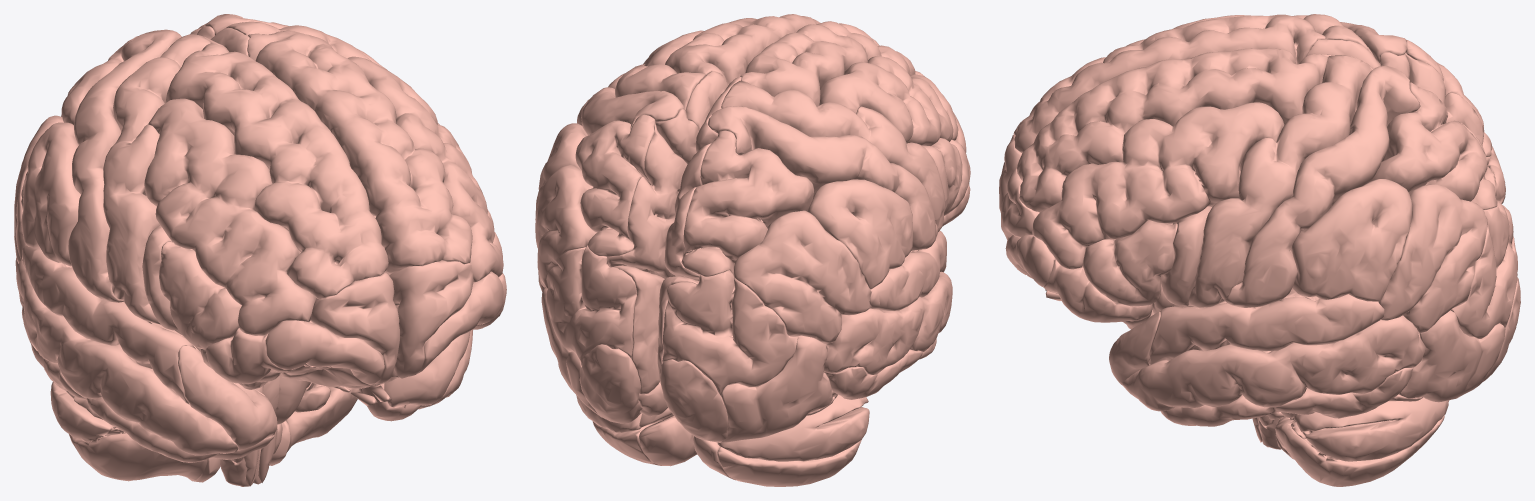
File: hra-brain-female-v1.3.glb
3 renders of one model, left to right at view 1: azimuth 30°, elevation 25°; view 2: azimuth 150°, elevation 25°; view 3: azimuth 270°, elevation 25°, orthographic. The views are drawn at different scales.
Parts seen in each view (by area): view 1: Allen_superior_frontal_gyrus_L, Allen_middle_frontal_gyrus_L, Allen_superior_frontal_gyrus_R, Allen_middle_temporal_gyrus_L, Allen_precentral_gyrus_L, Allen_postcentral_gyrus_L, Allen_superior_temporal_gyrus_L, Allen_middle_frontal_gyrus_R, Allen_supramarginal_gyrus_L, Allen_rostral_gyrus_R, Allen_lateral_hemisphere_of_cerebellum_L, Allen_inferior_frontal_gyrus_triangular_part_L (+19 smaller); view 2: Allen_angular_gyrus_L, Allen_supraparietal_lobule_L, Allen_superior_occipital_gyrus_L, Allen_postcentral_gyrus_L, Allen_lateral_hemisphere_of_cerebellum_L, Allen_superior_occipital_gyrus_R, Allen_supraparietal_lobule_R, Allen_precentral_gyrus_L, Allen_supramarginal_gyrus_L, Allen_middle_frontal_gyrus_L, Allen_superior_frontal_gyrus_L, Allen_middle_temporal_gyrus_L (+24 smaller); view 3: Allen_middle_frontal_gyrus_R, Allen_superior_frontal_gyrus_R, Allen_middle_temporal_gyrus_R, Allen_precentral_gyrus_R, Allen_postcentral_gyrus_R, Allen_supramarginal_gyrus_R, Allen_angular_gyrus_R, Allen_superior_temporal_gyrus_R, Allen_lateral_hemisphere_of_cerebellum_R, Allen_superior_frontal_gyrus_L, Allen_supraparietal_lobule_R, Allen_inferior_frontal_gyrus_triangular_part_R (+16 smaller).
Boxes of the visible parts, box(x1,y1,x2,y2) form: Allen_superior_frontal_gyrus_L: box(165, 43, 388, 299); Allen_middle_frontal_gyrus_L: box(144, 98, 315, 335); Allen_superior_frontal_gyrus_R: box(247, 30, 472, 273); Allen_middle_temporal_gyrus_L: box(16, 260, 238, 455); Allen_precentral_gyrus_L: box(103, 34, 210, 324); Allen_postcentral_gyrus_L: box(68, 29, 181, 302); Allen_superior_temporal_gyrus_L: box(22, 245, 195, 404); Allen_middle_frontal_gyrus_R: box(347, 56, 503, 282); Allen_supramarginal_gyrus_L: box(21, 122, 80, 266); Allen_rostral_gyrus_R: box(389, 260, 473, 378); Allen_lateral_hemisphere_of_cerebellum_L: box(50, 382, 207, 481); Allen_inferior_frontal_gyrus_triangular_part_L: box(159, 241, 241, 350); Allen_angular_gyrus_L: box(733, 210, 870, 344); Allen_supraparietal_lobule_L: box(681, 130, 813, 276); Allen_superior_occipital_gyrus_L: box(662, 270, 798, 394); Allen_postcentral_gyrus_L: box(707, 106, 938, 250); Allen_lateral_hemisphere_of_cerebellum_L: box(717, 394, 869, 486); Allen_superior_occipital_gyrus_R: box(546, 245, 636, 365); Allen_supraparietal_lobule_R: box(575, 114, 655, 256); Allen_precentral_gyrus_L: box(721, 81, 944, 231); Allen_supramarginal_gyrus_L: box(807, 179, 912, 289); Allen_middle_frontal_gyrus_L: box(819, 55, 966, 152); Allen_superior_frontal_gyrus_L: box(740, 21, 923, 106); Allen_middle_temporal_gyrus_L: box(824, 271, 952, 374); Allen_middle_frontal_gyrus_R: box(1032, 102, 1284, 269); Allen_superior_frontal_gyrus_R: box(1017, 48, 1327, 212); Allen_middle_temporal_gyrus_R: box(1122, 315, 1425, 411); Allen_precentral_gyrus_R: box(1188, 55, 1371, 307); Allen_postcentral_gyrus_R: box(1225, 65, 1420, 307); Allen_supramarginal_gyrus_R: box(1290, 179, 1412, 301); Allen_angular_gyrus_R: box(1378, 184, 1487, 333); Allen_superior_temporal_gyrus_R: box(1149, 294, 1384, 365); Allen_lateral_hemisphere_of_cerebellum_R: box(1268, 397, 1448, 486); Allen_superior_frontal_gyrus_L: box(1013, 14, 1325, 152); Allen_supraparietal_lobule_R: box(1371, 82, 1497, 209); Allen_inferior_frontal_gyrus_triangular_part_R: box(1082, 220, 1177, 306).
Bounding box in the file's own units: 0.1364 × 0.1461 × 0.167.
